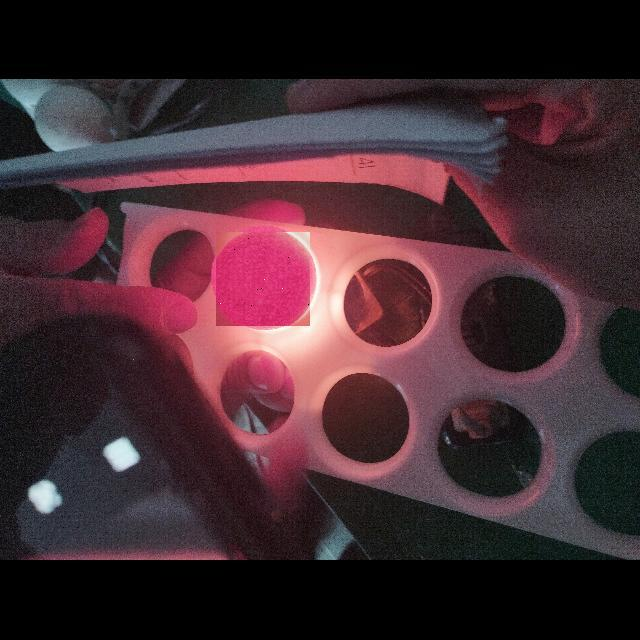Infertile: (216, 232, 310, 326)
